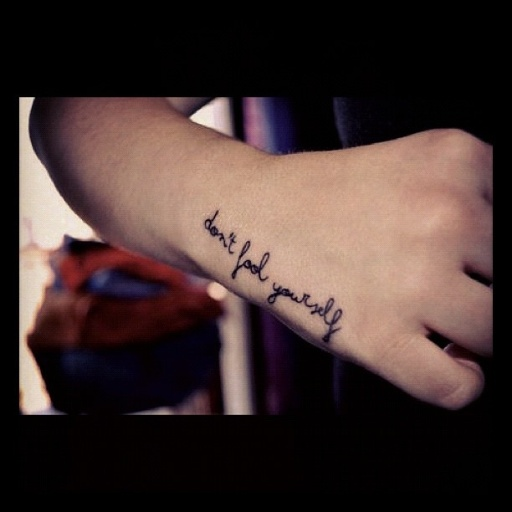hand: (185, 121, 497, 414)
